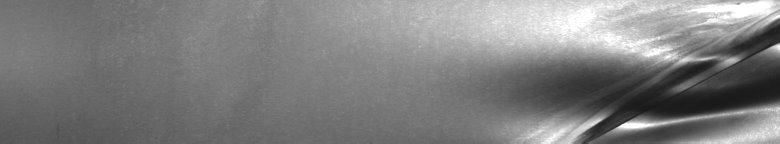ke: (580, 16, 776, 136)
